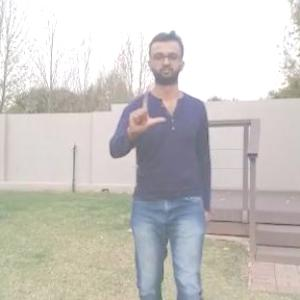land_hand: (122, 82, 166, 134)
